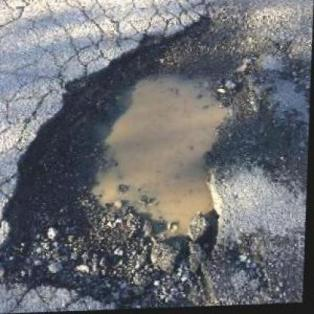Hueco: (0, 13, 257, 313)
